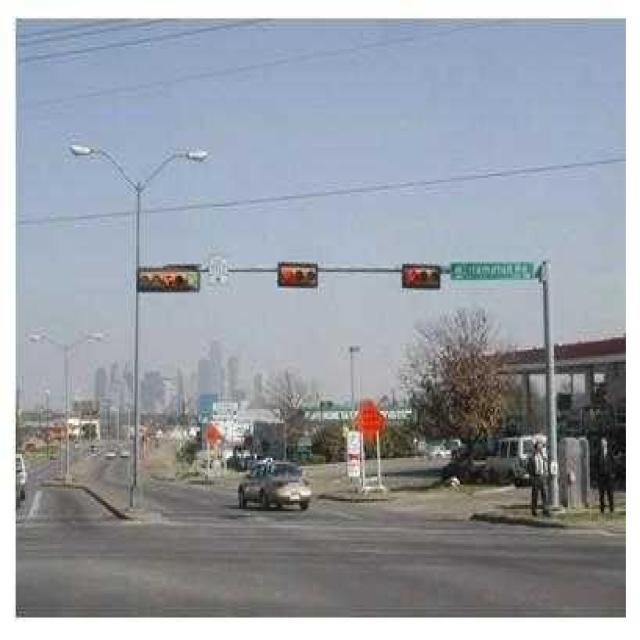Traffic Light -Red-: (400, 264, 443, 292), (279, 261, 319, 291)
